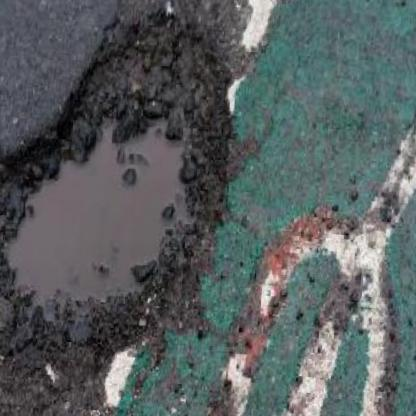pothole: (0, 8, 217, 359)
